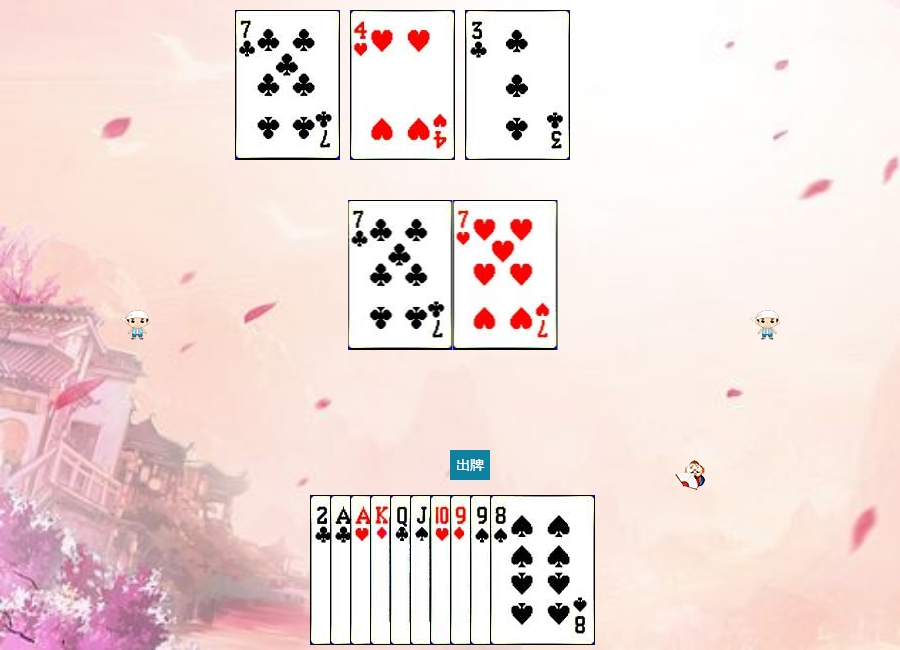10~3: (430, 495, 535, 645)
11~4: (410, 495, 515, 645)
12~2: (390, 495, 495, 645)
13~1: (370, 495, 475, 645)
14~2: (330, 495, 435, 645)
14~3: (350, 495, 455, 645)
15~2: (310, 495, 415, 645)
3~2: (465, 10, 570, 160)
4~3: (350, 10, 455, 160)
7~2: (235, 10, 340, 160), (348, 200, 453, 350)
7~3: (453, 200, 558, 350)
8~4: (490, 495, 595, 645)
9~1: (450, 495, 555, 645)
9~4: (470, 495, 575, 645)
